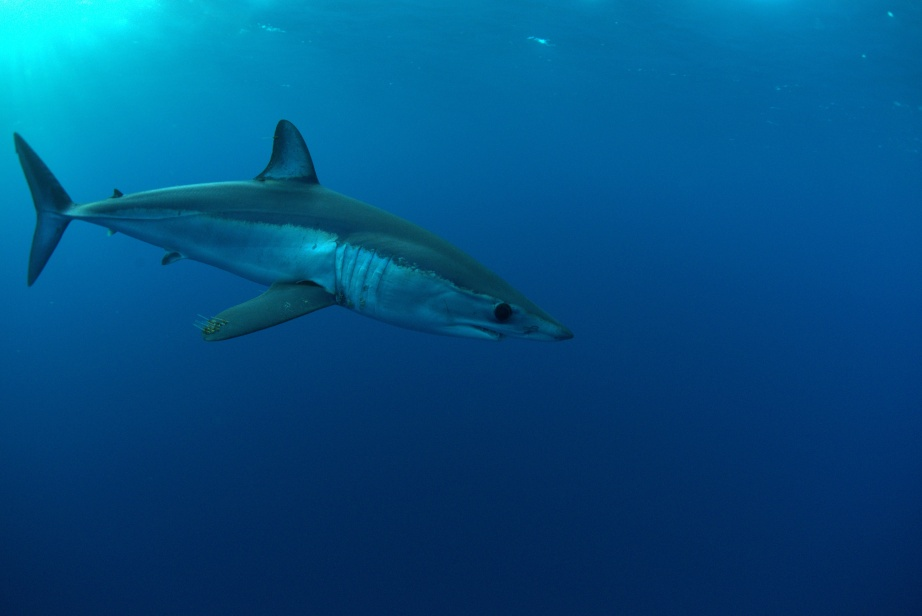Mako: (10, 113, 590, 354)
